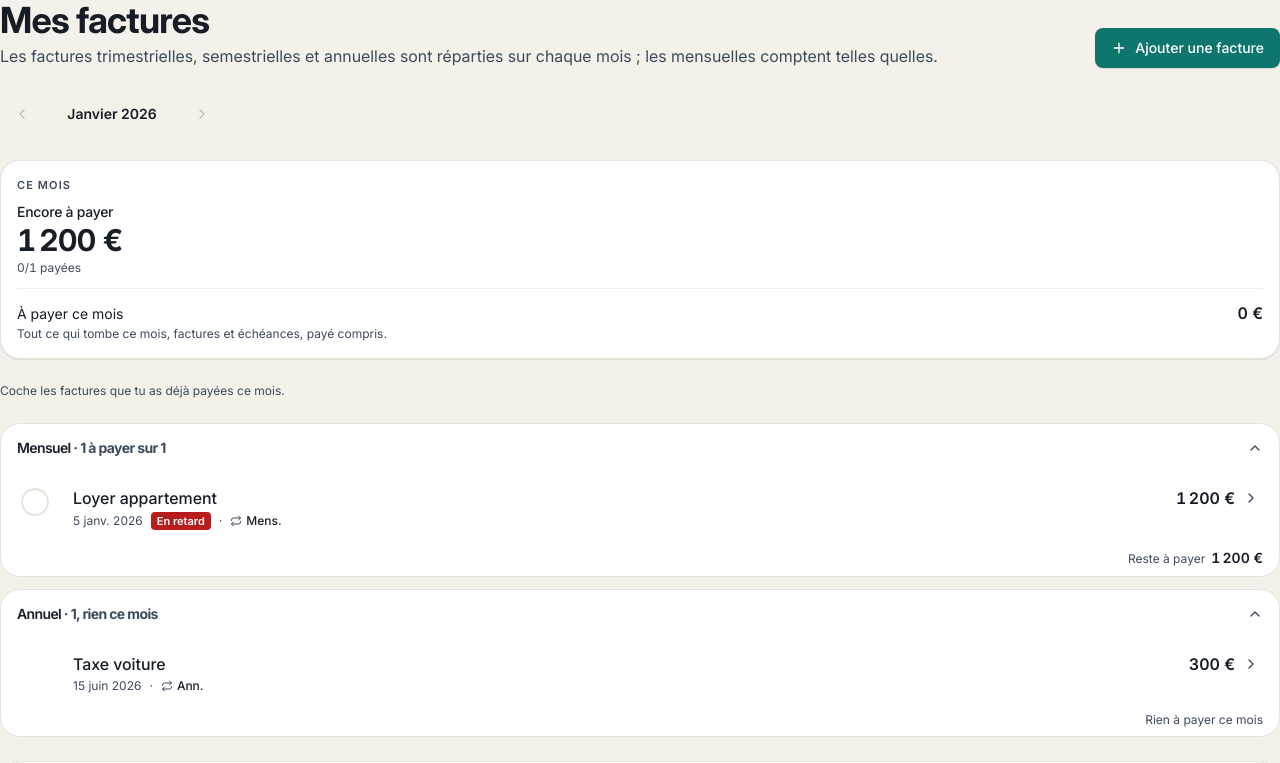
Test: <ChargesClient /> — PR-BETA-CLEANUP-2 list & form › offers edit and a confirmed delete in the row drawer, not on the row
Click the button with test id "charges-row-open-a1" at (145, 498), box [65,480,1267,536]
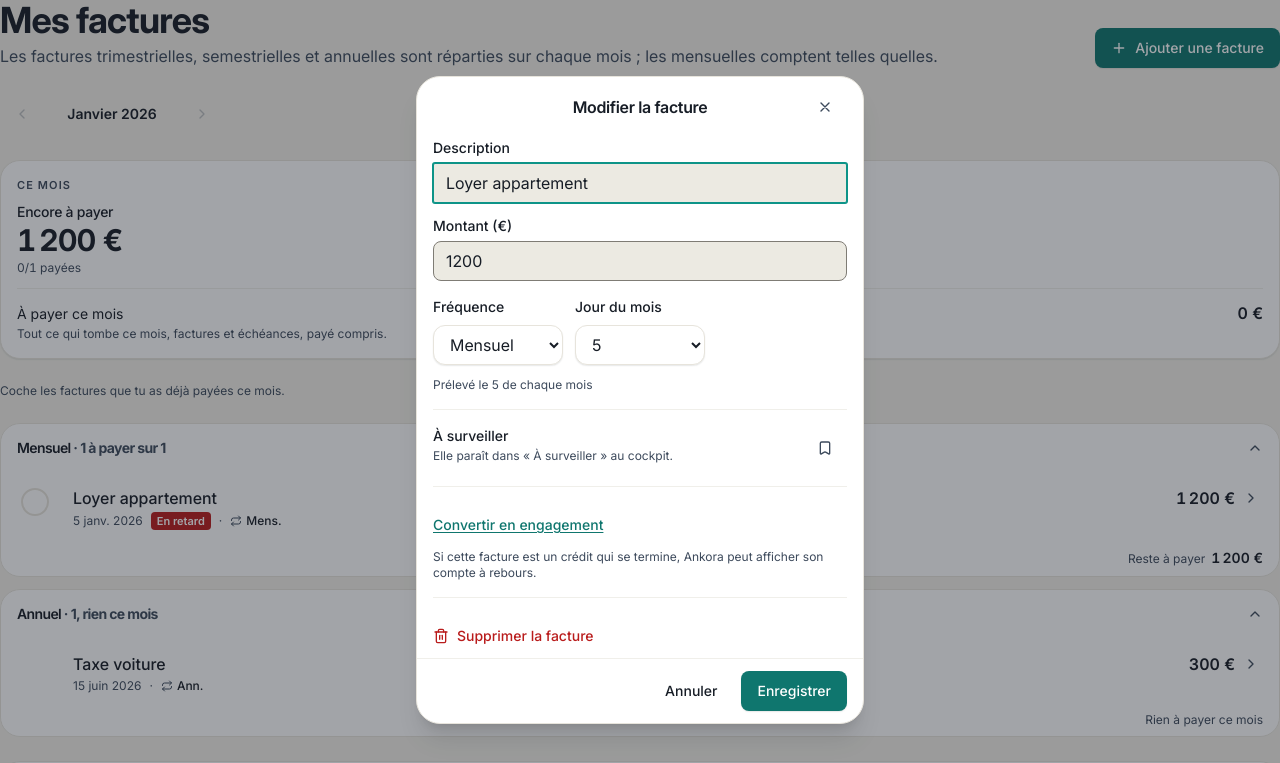
expect the button with test id "charge-edit-save" is shown: met, box [742,671,847,711]
expect the button with test id "charge-drawer-delete" is shown: met, box [433,614,594,658]
